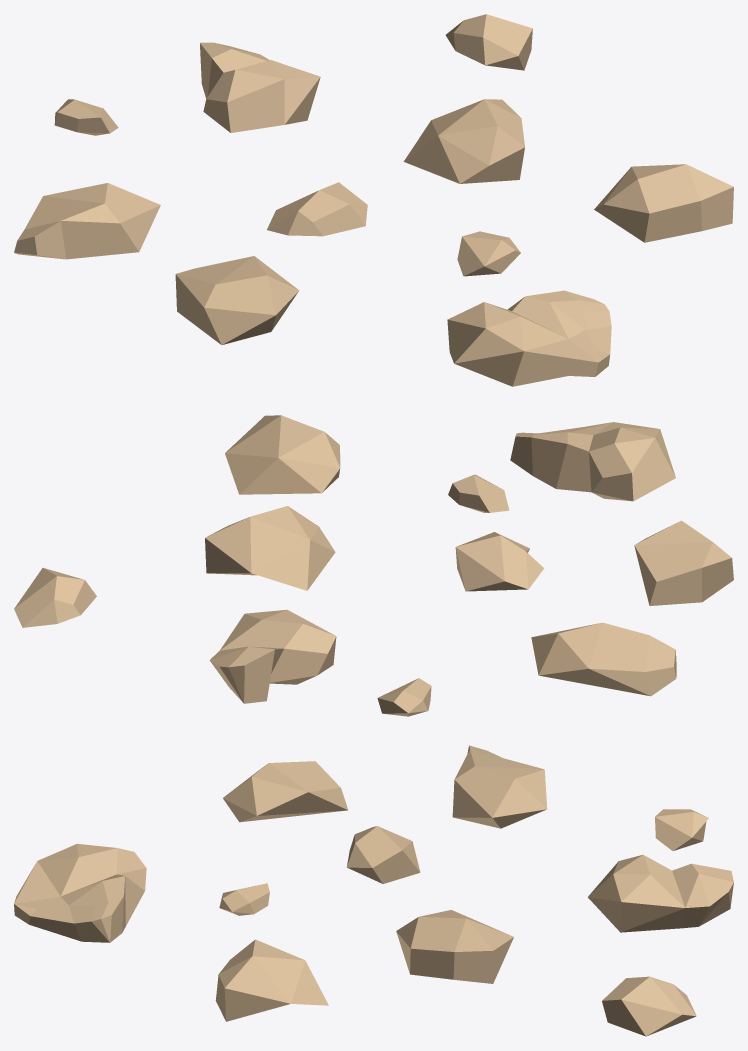
The model's file is rocks-tiny.glb.
The picture shows the model from 3 angles, top to bottom: view 1: azimuth 30°, elevation 25°; view 2: azimuth 150°, elevation 25°; view 3: azimuth 270°, elevation 25°; orthographic projection. The views are drawn at different scales.
Parts seen in each view (by area): view 1: rocks-tiny; view 2: rocks-tiny; view 3: rocks-tiny.
Part boxes in pixels (box(x1,y1,x2,y2)): rocks-tiny: box(14, 14, 733, 386); rocks-tiny: box(14, 415, 733, 716); rocks-tiny: box(14, 745, 733, 1036).
Size of the model in its own units: 0.7415 by 0.0891 by 0.8381.
